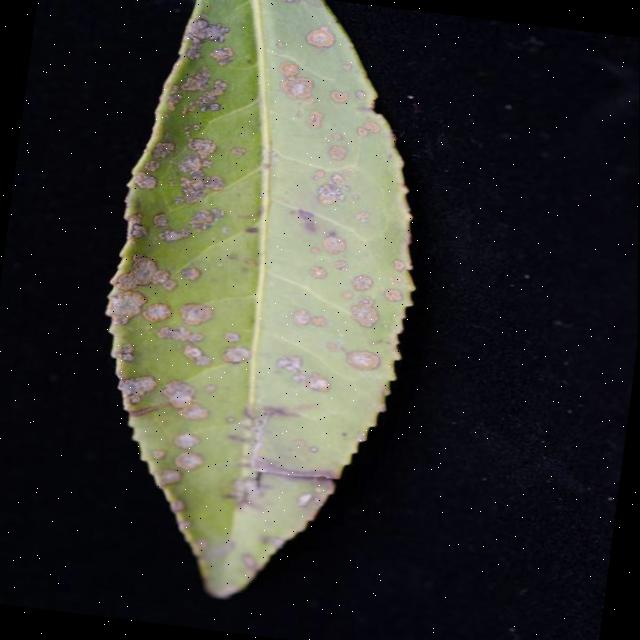Tea red rust: (78, 20, 441, 570)
